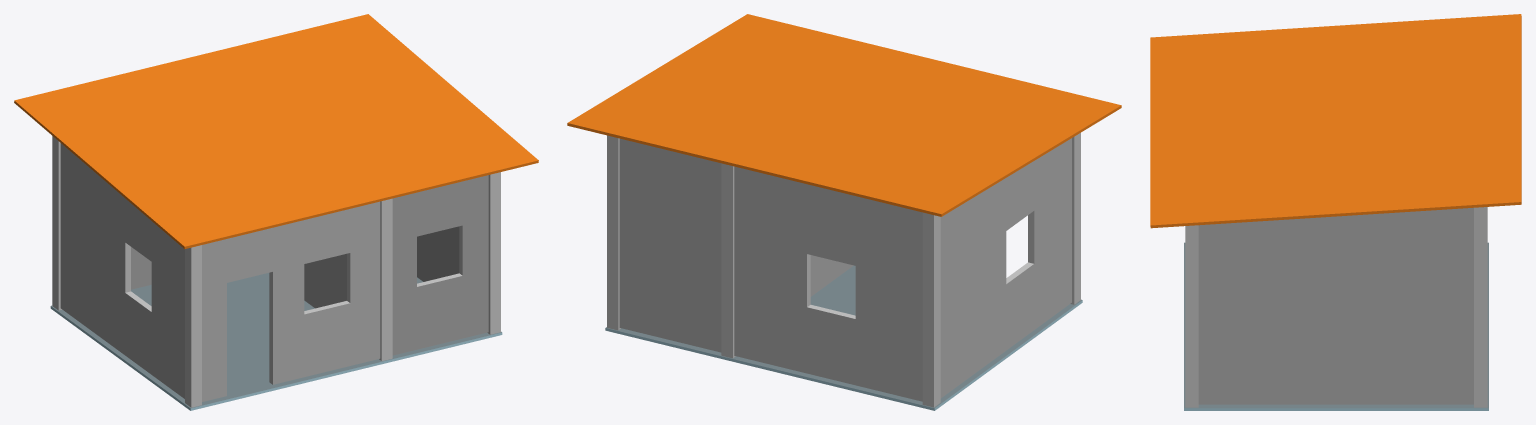
Rendered from Casa C1-11.fbx.
3 renders of one model, left to right at view 1: azimuth 30°, elevation 25°; view 2: azimuth 150°, elevation 25°; view 3: azimuth 270°, elevation 25°, orthographic. The views are drawn at different scales.
Parts seen in each view (by area): view 1: Cubo.001; view 2: Cubo.001; view 3: Cubo.001.
Boxes of the visible parts, x1,y1,x2,y2 form: Cubo.001: (14,14,538,410); Cubo.001: (567,14,1121,410); Cubo.001: (1150,14,1521,410).
Bounding box in the file's own units: 1544 × 843 × 1288.
